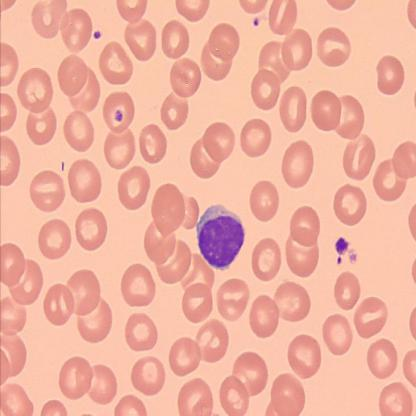Lymphocyte: (195, 202, 245, 273)
